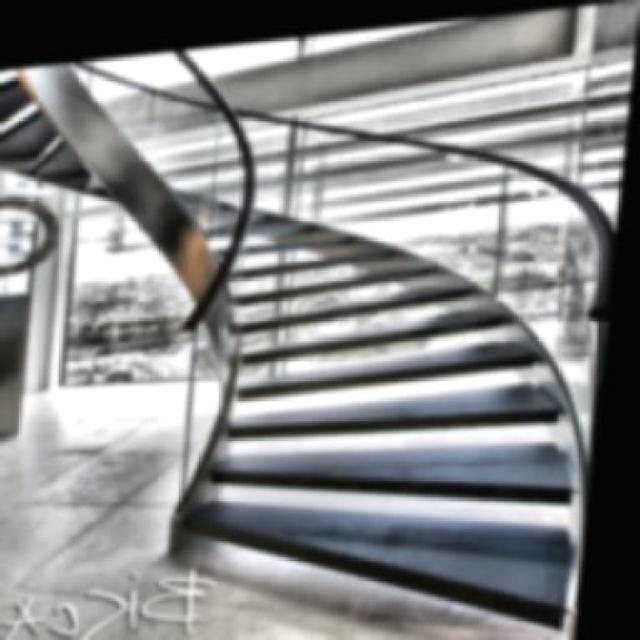stair: (166, 117, 631, 563)
